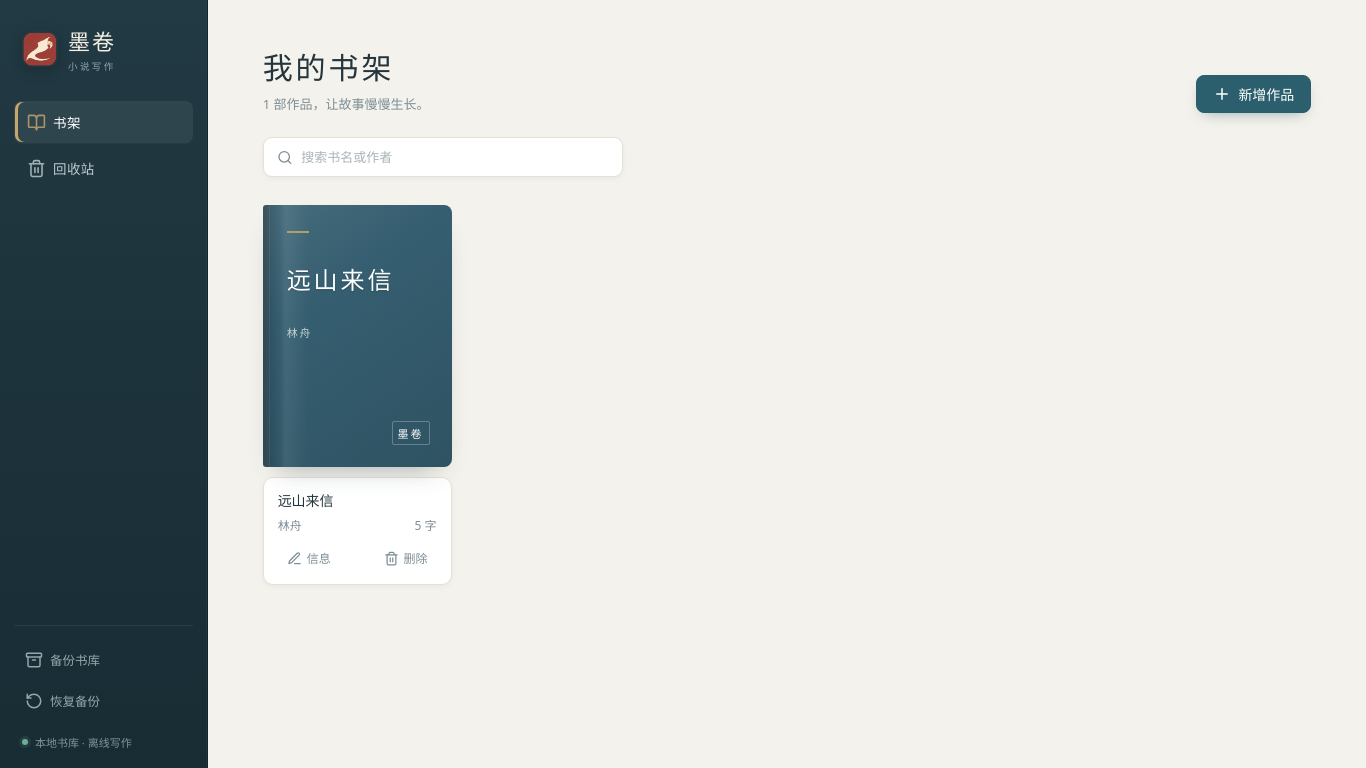
Test: writing workspace › saves before recycling a chapter and shows it in the recycle bin
Click the button with aria-label "打开 远山来信": (357,336) [263,205,452,467]
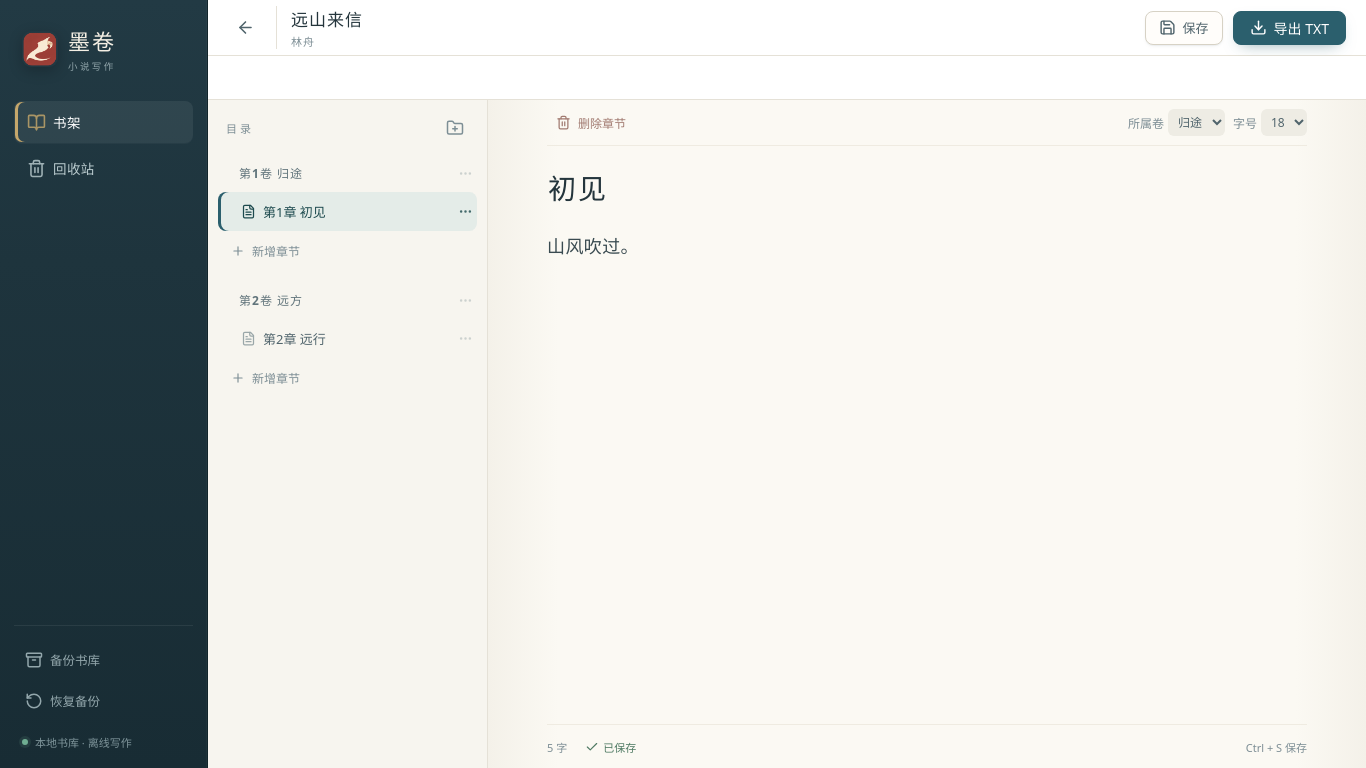
Replace the text in the text box named "章节正文" with "删除前保存": (927,472) [547,220,1307,724]
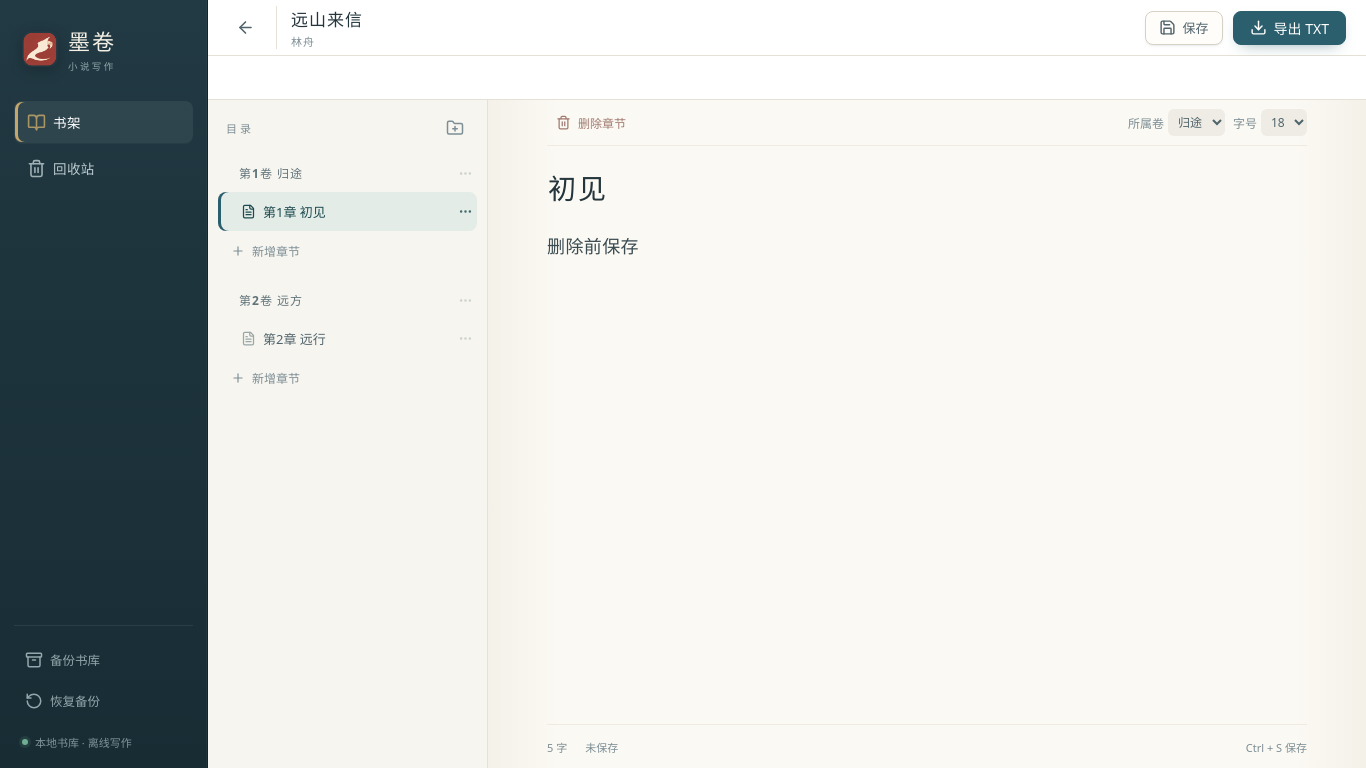
Click the button with aria-label "删除章节 初见": (591,122) [547,110,635,136]
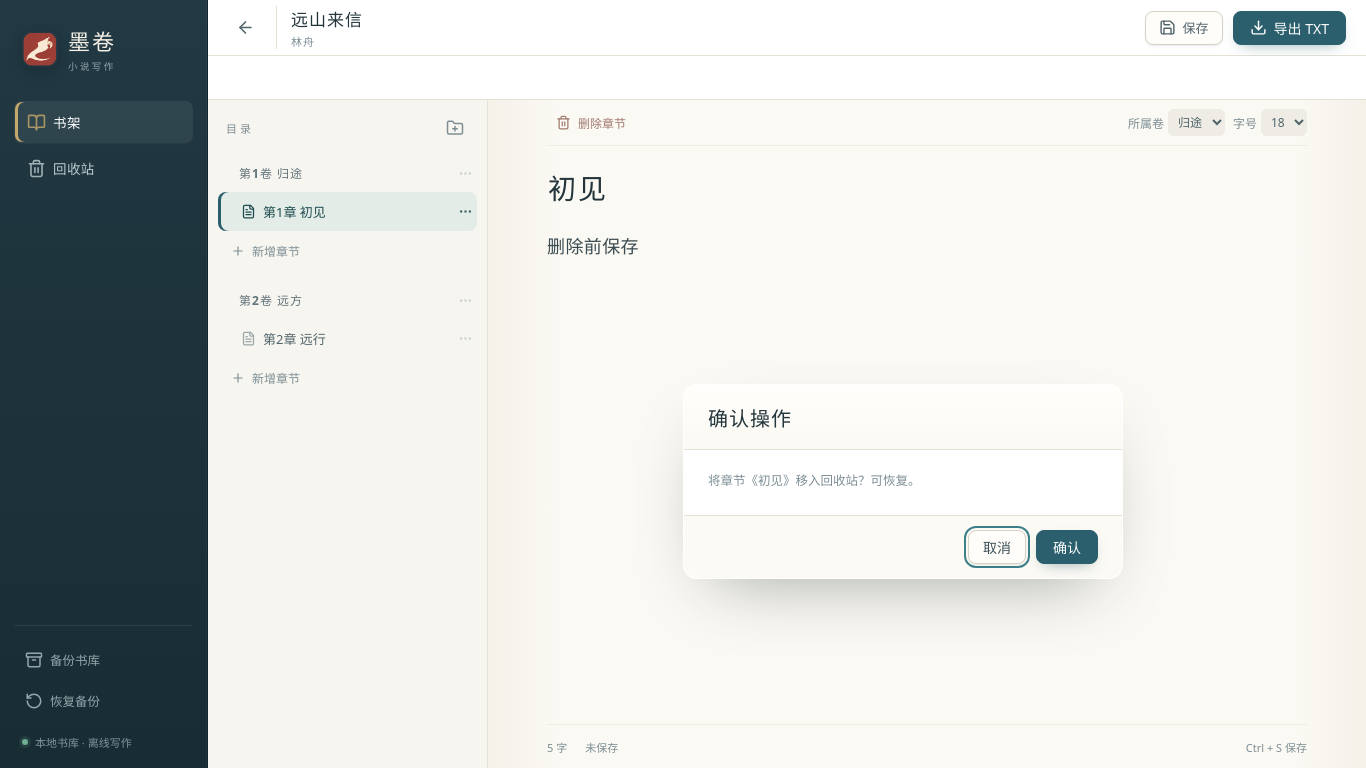
Click the button "确认": (1067,547) [1036,530,1098,564]
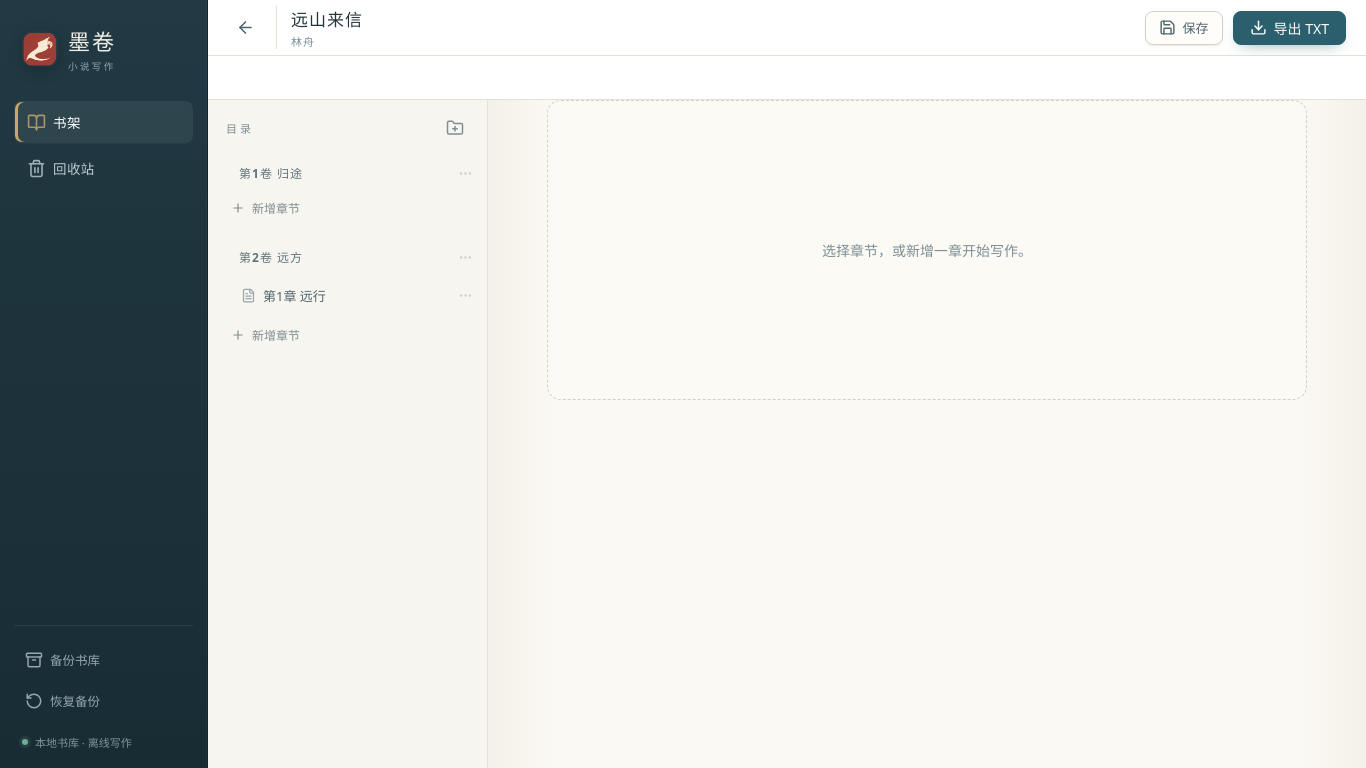
Expected: the text box labelled "章节正文" is gone
Click the button "回收站": (104,168) [14,147,193,189]
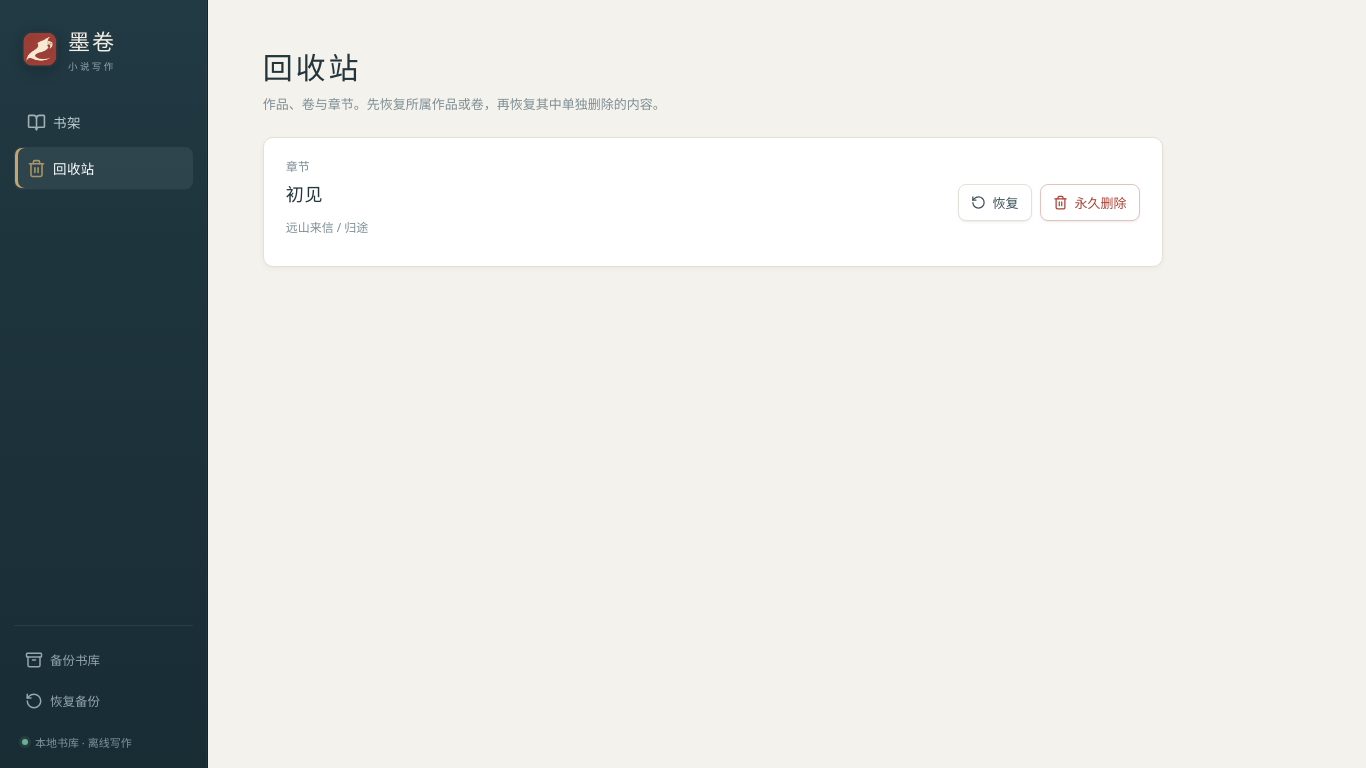
Expected: the button with aria-label "恢复章节 初见" is shown, [958,184,1032,220]
